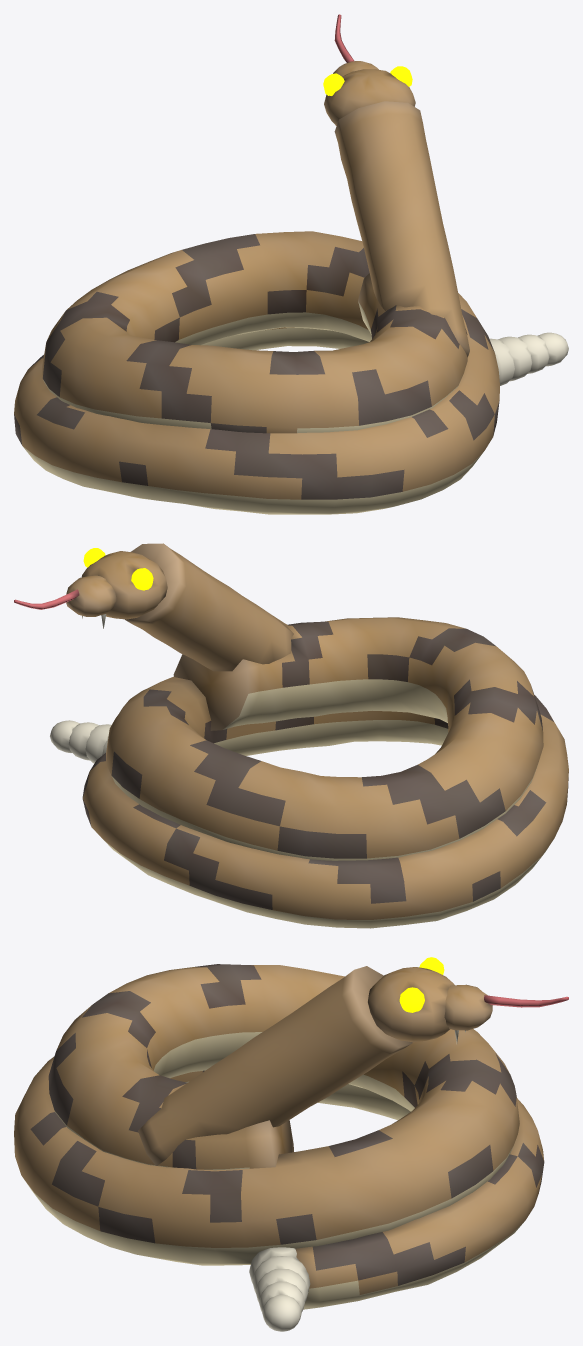
3 views of the same model, one above another, from view 1: azimuth 30°, elevation 25°; view 2: azimuth 150°, elevation 25°; view 3: azimuth 270°, elevation 25° (orthographic). The views are drawn at different scales.
Parts seen in each view (by area): view 1: torso, head, rattle; view 2: torso, head, rattle; view 3: torso, head, rattle.
Boxes of the visible parts, box(x1,y1,x2,y2) form: torso: box(14, 231, 499, 514); head: box(323, 14, 469, 356); rattle: box(489, 332, 568, 385); torso: box(82, 617, 568, 928); head: box(14, 543, 293, 671); rattle: box(50, 720, 111, 763); torso: box(14, 964, 544, 1309); head: box(138, 957, 568, 1165); rattle: box(249, 1247, 310, 1331).
Bounding box in the file's own units: 0.7755 × 0.4279 × 0.6757.
